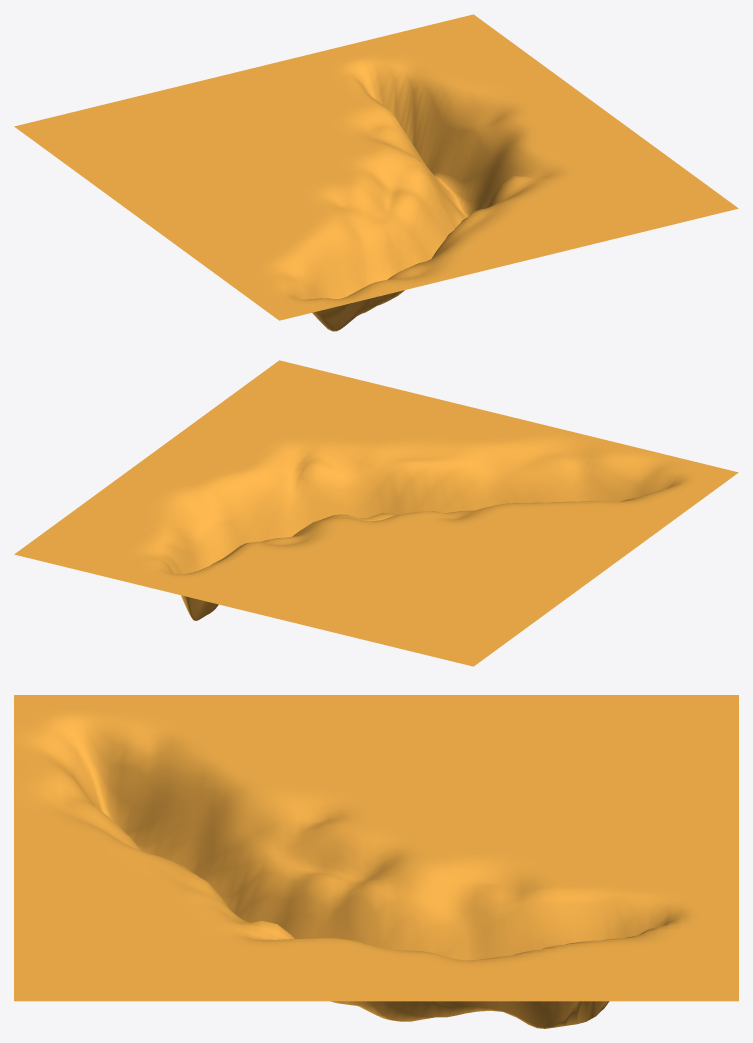
The model's file is fissure1.fbx.
3 renders of one model, top to bottom at view 1: azimuth 30°, elevation 25°; view 2: azimuth 150°, elevation 25°; view 3: azimuth 270°, elevation 25°, orthographic. The views are drawn at different scales.
Visible parts, largest first — view 1: fissure1; view 2: fissure1; view 3: fissure1.
Boxes of the visible parts, x1,y1,x2,y2 form: fissure1: (14, 14, 738, 331); fissure1: (14, 360, 738, 666); fissure1: (14, 695, 738, 1028).
Bounding box in the file's own units: 4 × 0.6711 × 4.
